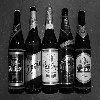beer: (42, 4, 62, 96)
